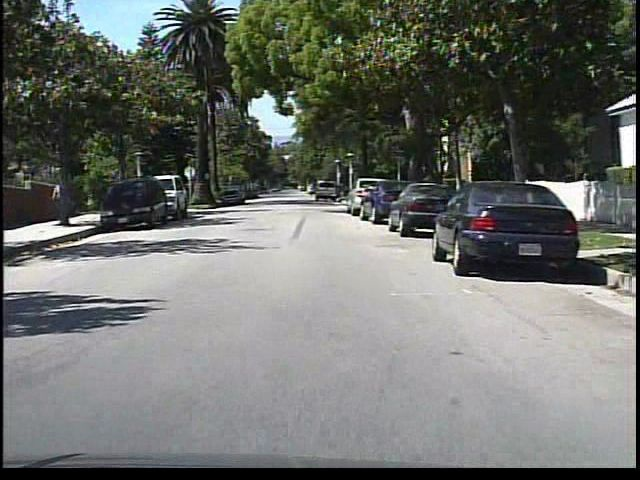person: (51, 175, 70, 224)
